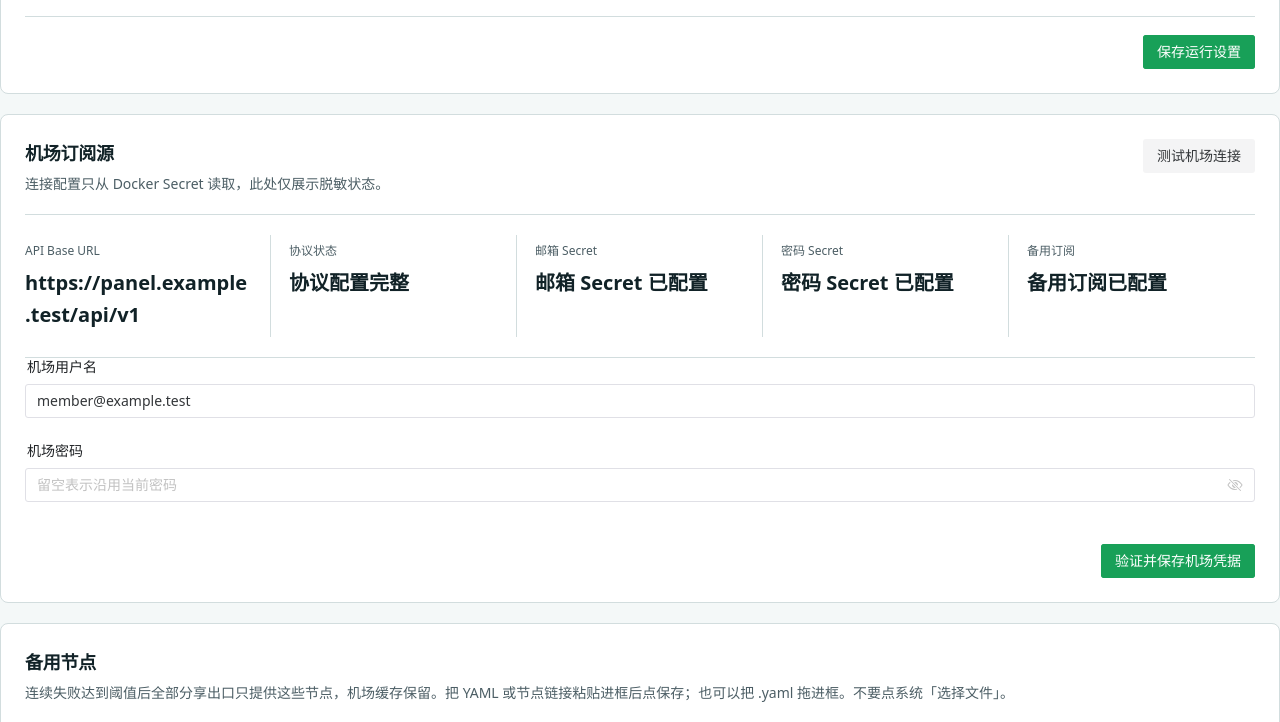
Test: Settings › loads airport credentials without prefilling the password and saves a validated candidate
The image size is (1280, 722).
(page scrolled)
Expected: the password field with id "airport-password" is empty, [37, 468, 1223, 502]
Step 1. Replace the text in the field with id "airport-username" with "updated@example.test" → (640, 401), box [37, 384, 1243, 418]
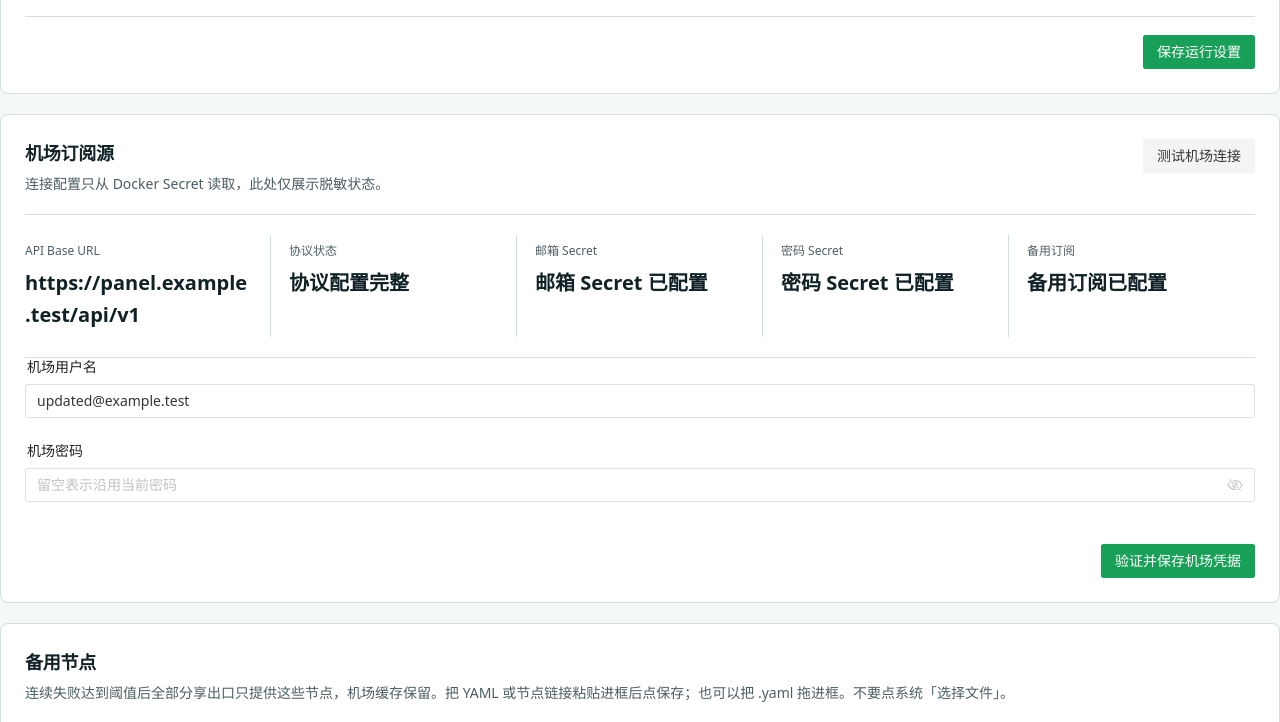
Step 2. Type "candidate-password" into the password field with id "airport-password" → (630, 485), box [37, 468, 1223, 502]
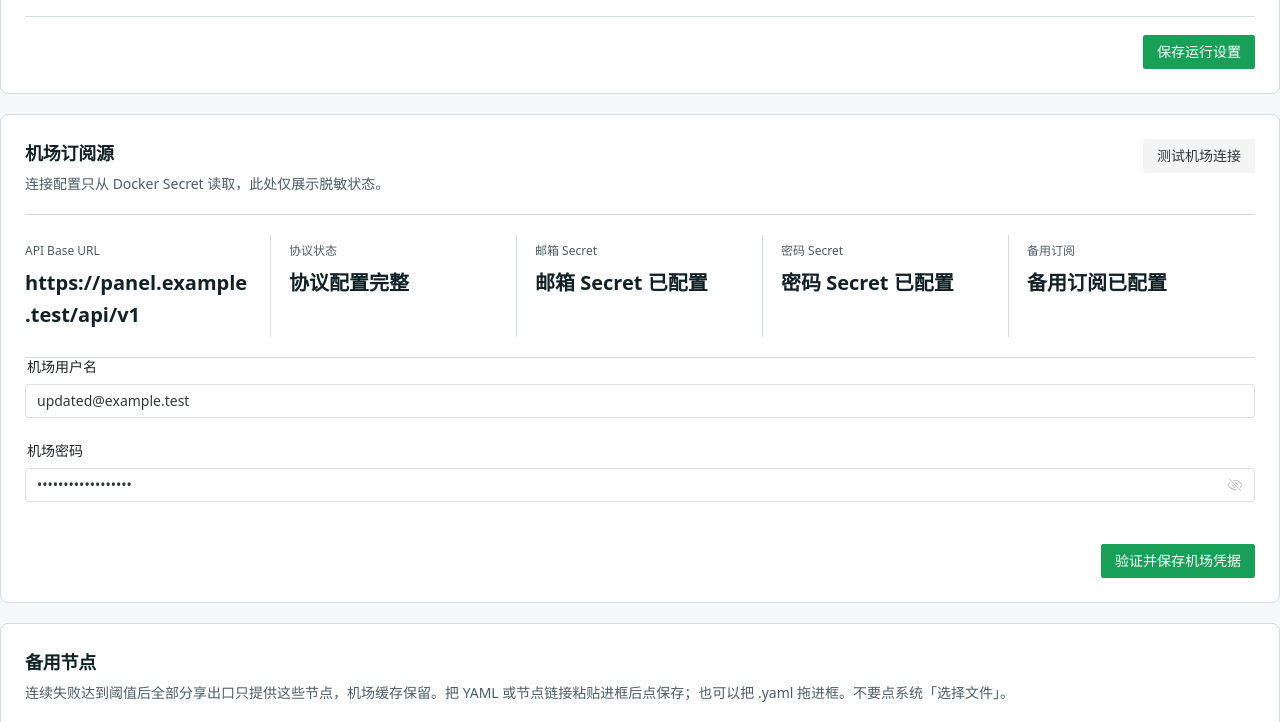
Step 3. Submit the form with class "airport-credentials-form", box [25, 358, 1255, 578]
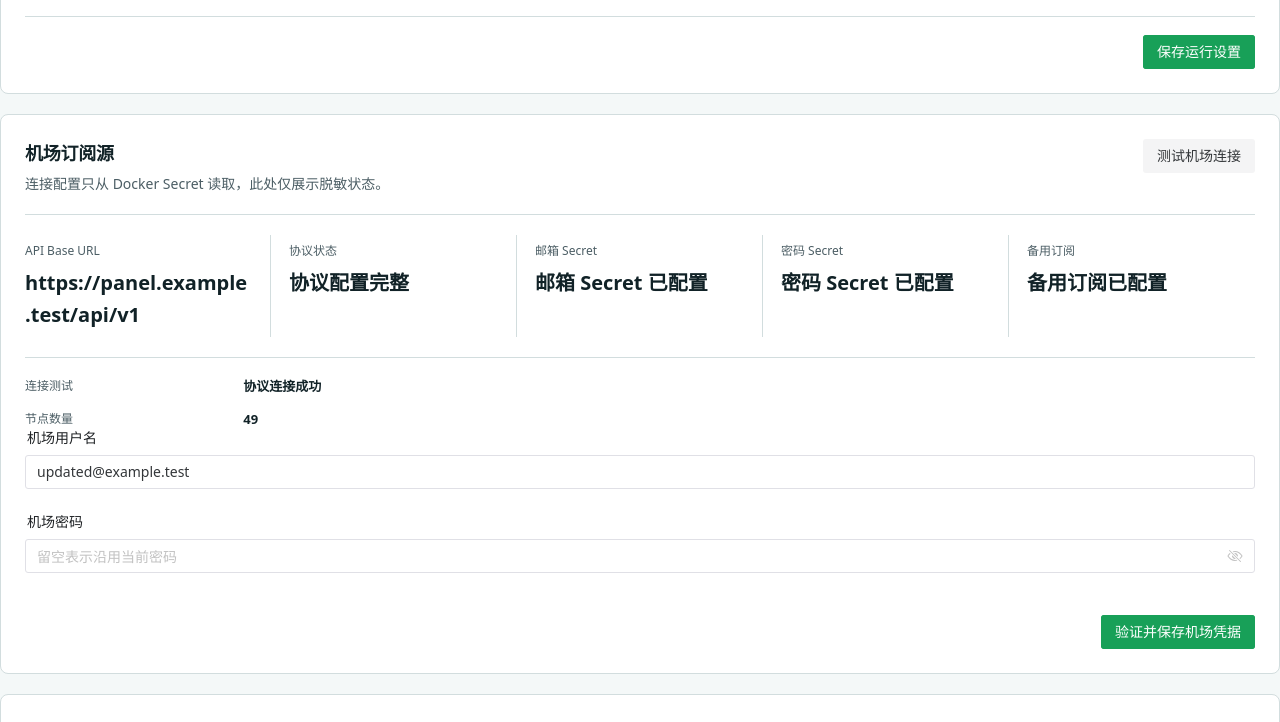
Now the password field with id "airport-password" is empty, box [37, 539, 1223, 573]
Now the text "49" is shown, box [243, 410, 258, 428]
